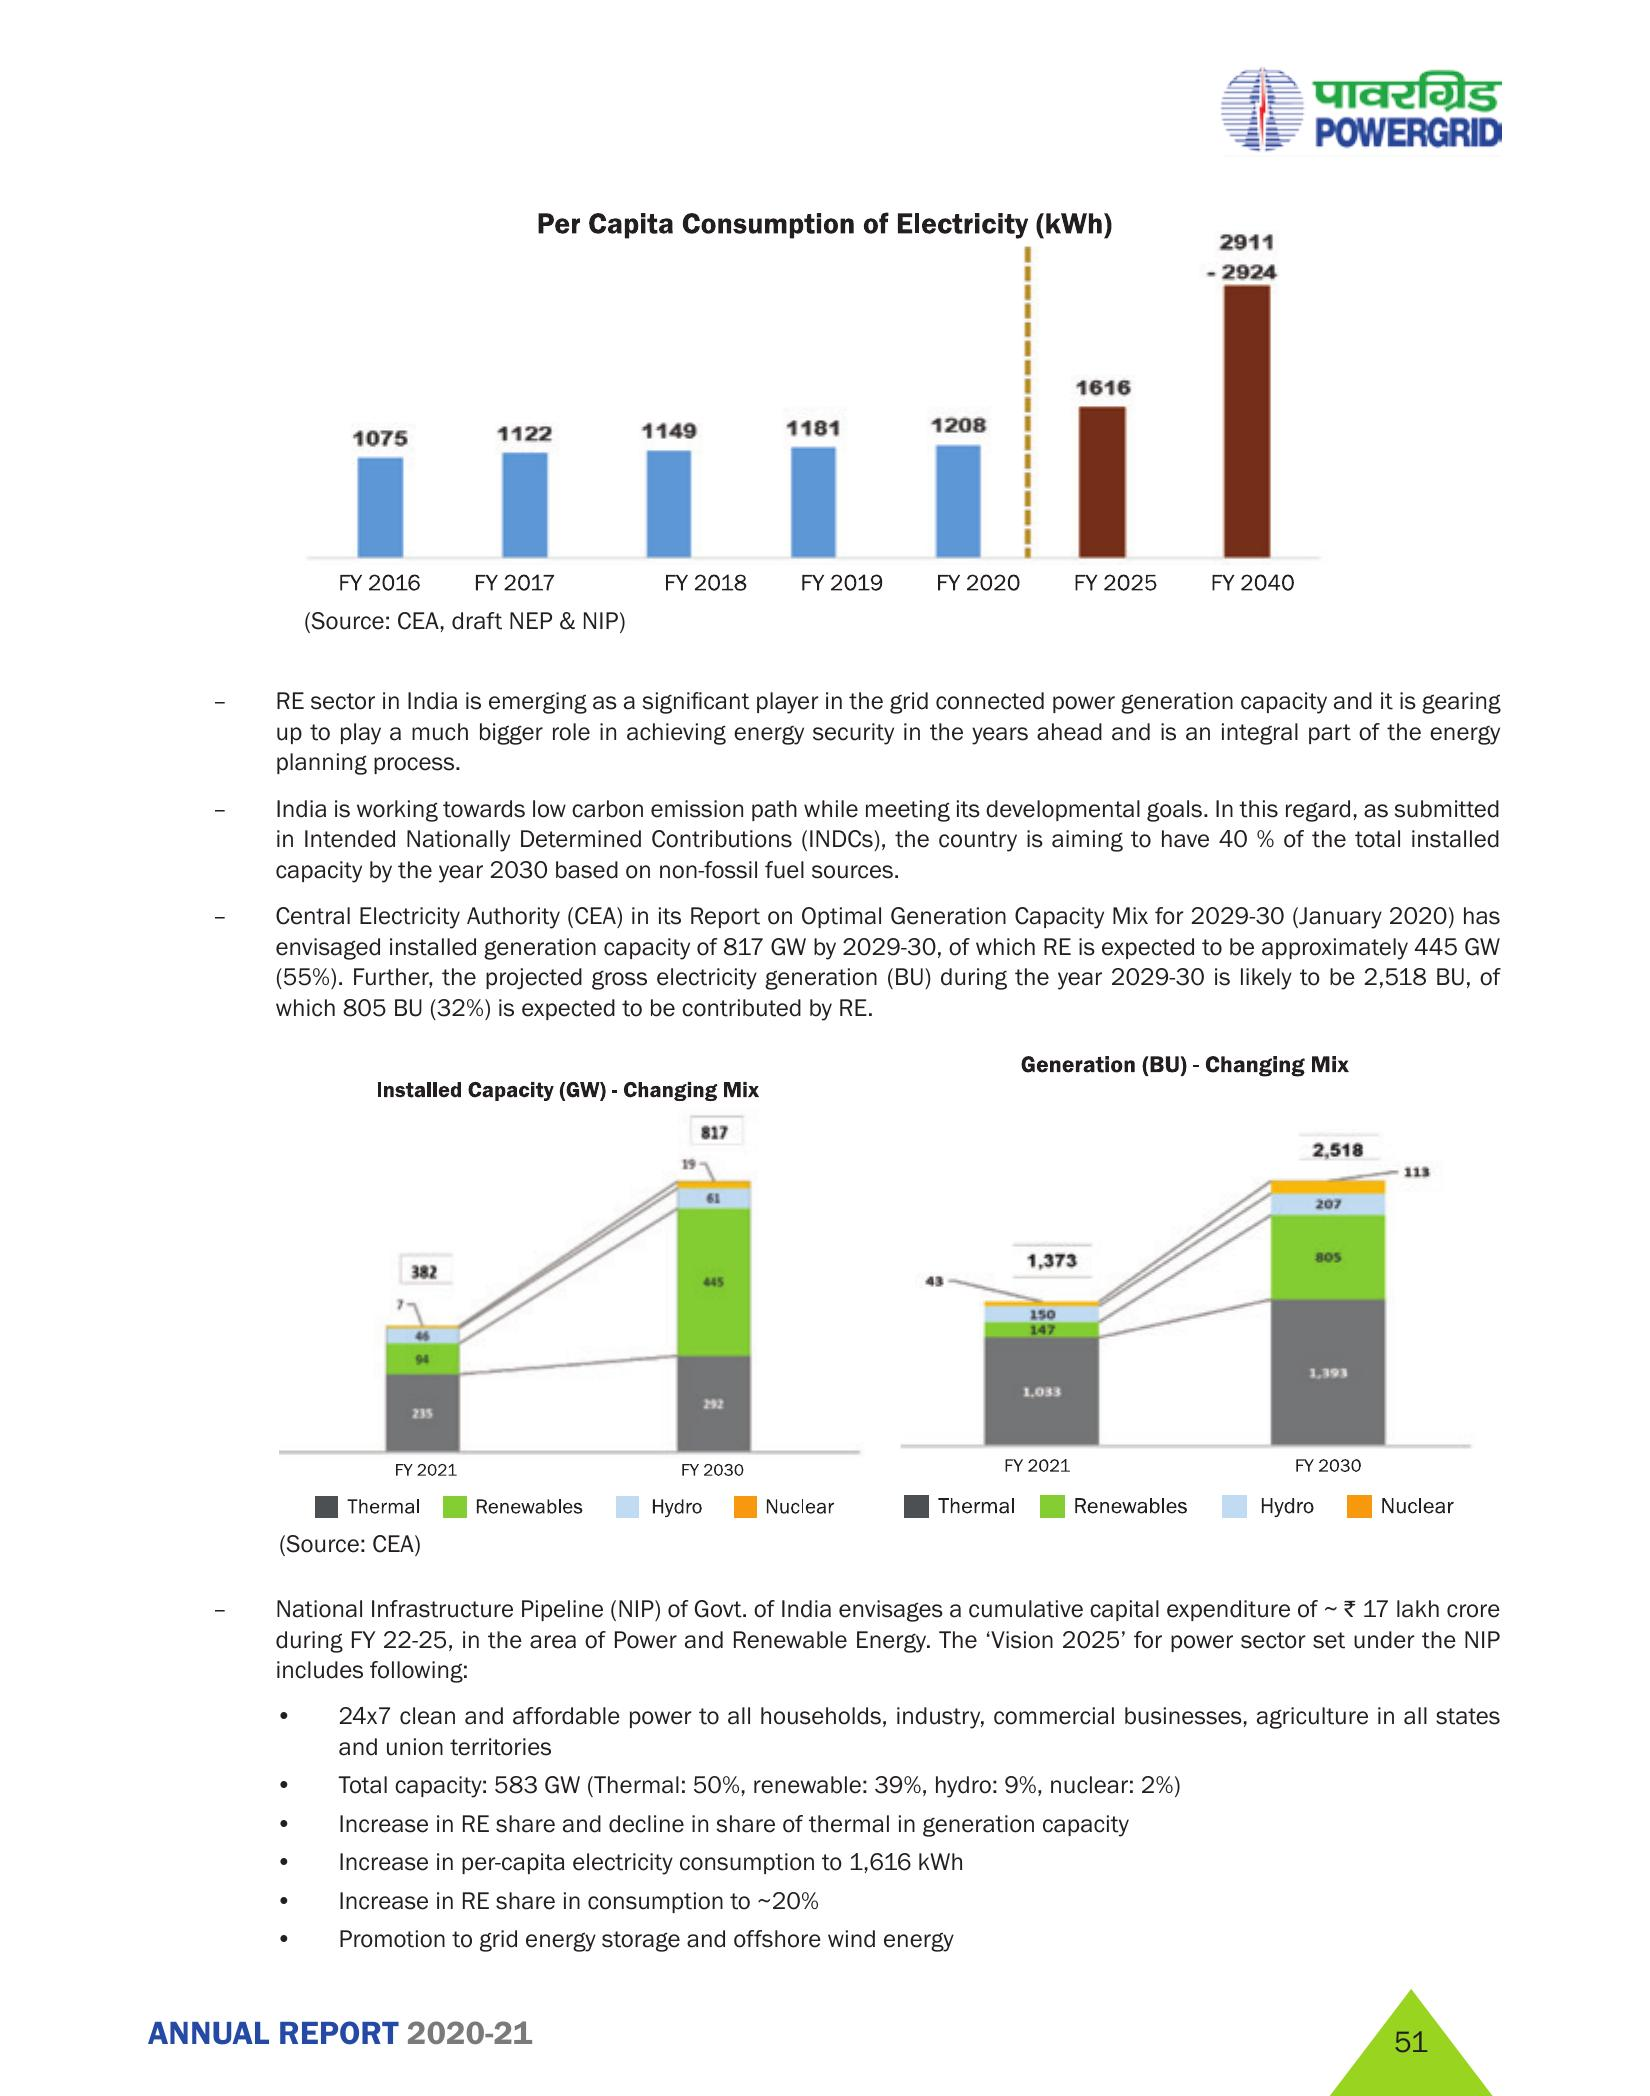Footer: (0, 1979, 1650, 2096)
Header: (0, 0, 1650, 172)
Image: (204, 1038, 1492, 1569), (228, 201, 1405, 629)
